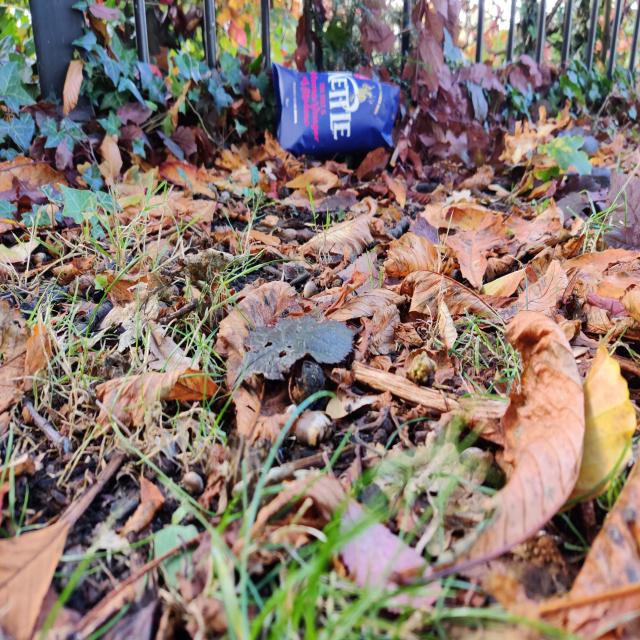litter: (270, 62, 417, 174)
